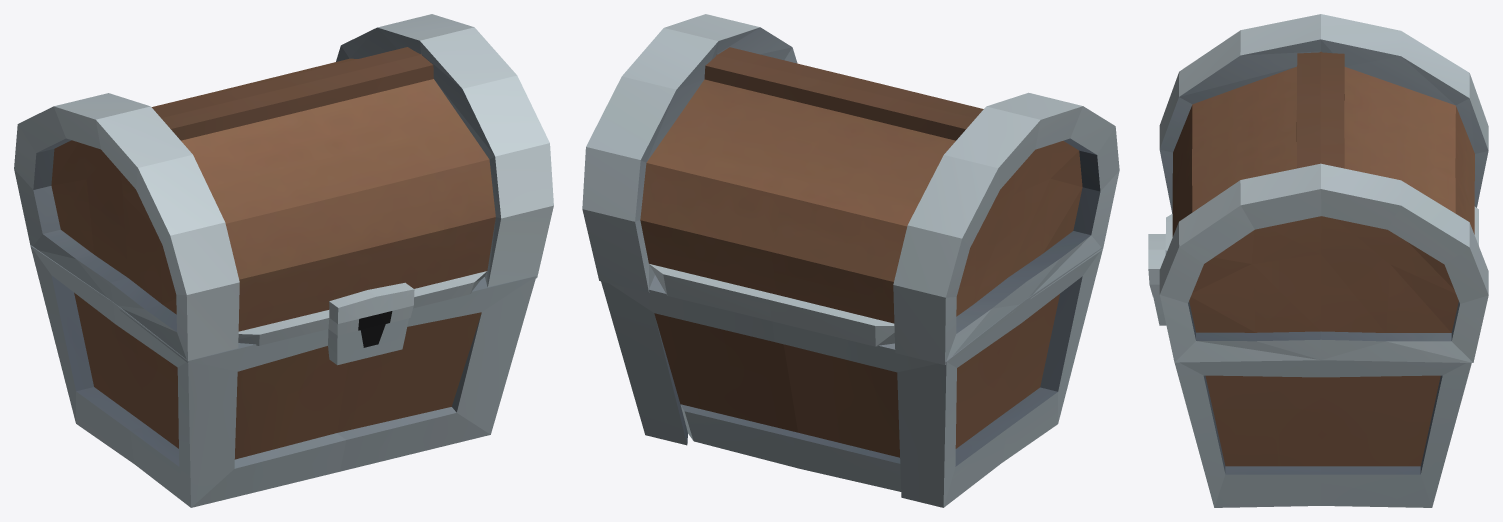
Rendered from chest.fbx.
The picture shows the model from 3 angles, left to right: view 1: azimuth 30°, elevation 25°; view 2: azimuth 150°, elevation 25°; view 3: azimuth 270°, elevation 25°; orthographic projection. The views are drawn at different scales.
Parts seen in each view (by area): view 1: topchest, botchest; view 2: topchest, botchest; view 3: topchest, botchest.
Part boxes in pixels (box(x1,y1,x2,y2)): topchest: box(14, 14, 553, 362); botchest: box(30, 245, 536, 507); topchest: box(582, 14, 1119, 364); botchest: box(601, 247, 1102, 507); topchest: box(1148, 14, 1488, 362); botchest: box(1153, 296, 1471, 507).
Bounding box in the file's own units: 8.37 × 7.53 × 6.86.
1 material, 1 textured.
